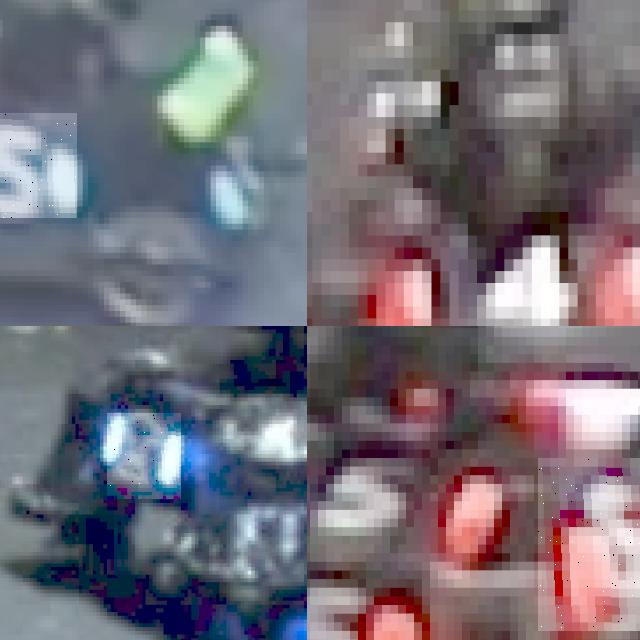B5: (0, 113, 77, 217)
Bs: (107, 413, 181, 499)
R5: (307, 414, 510, 544), (538, 458, 640, 631), (307, 553, 430, 640)
